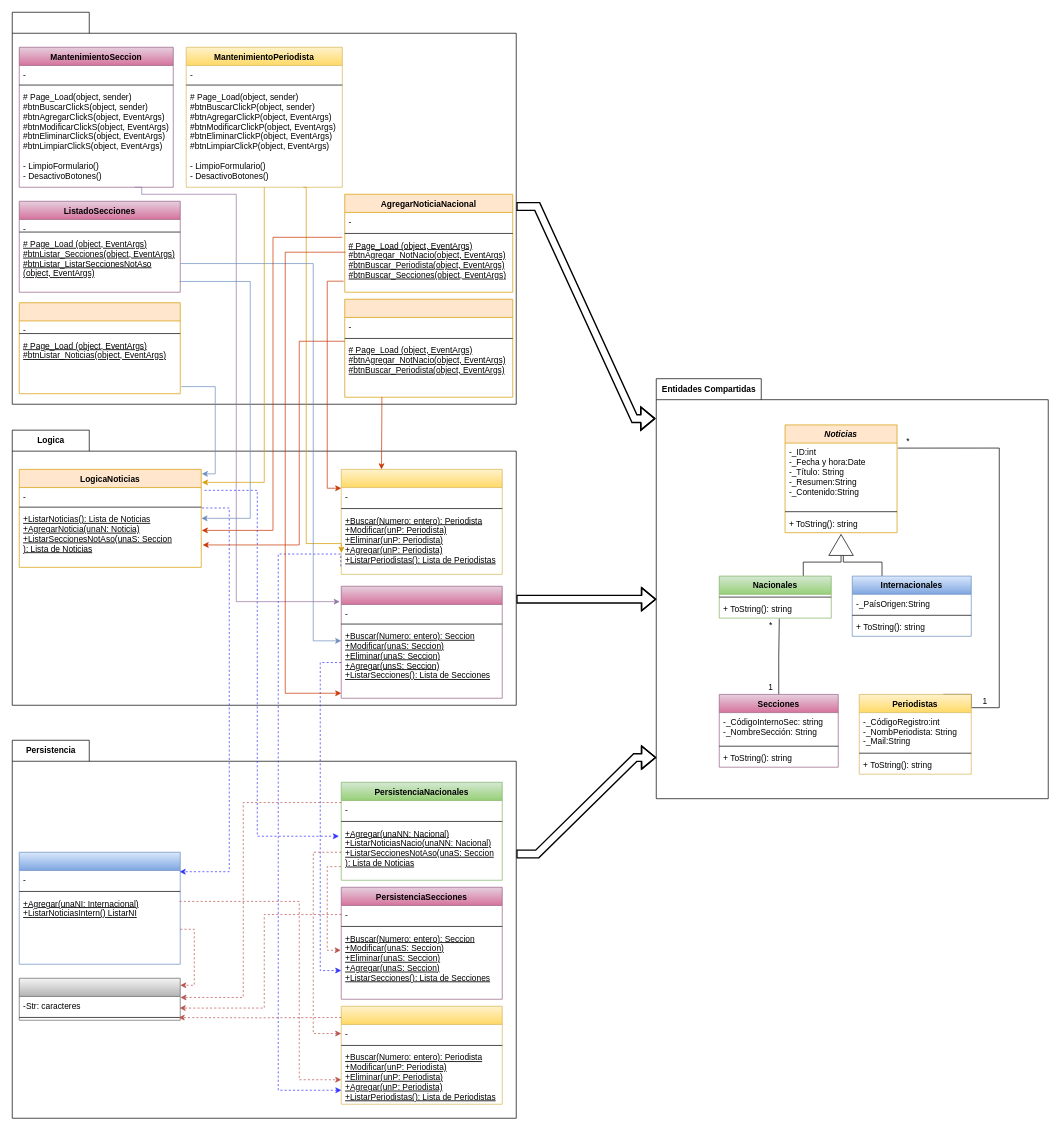
Some shapes in this 1061 by 1131 pixel diagram are drawn without their labels. Each missing label, with the box of its shape:
AgregarNoticiaInternacional: (344, 299, 513, 397)
Conexion: (19, 978, 180, 1020)
ListadoNoticias: (19, 302, 180, 394)
LogicaPeriodista: (341, 469, 502, 574)
LogicaSecciones: (341, 586, 502, 698)
PersistenciaInternacionales: (19, 852, 180, 964)
PersistenciaPriodista: (341, 1006, 502, 1104)
UI: (12, 12, 516, 404)
